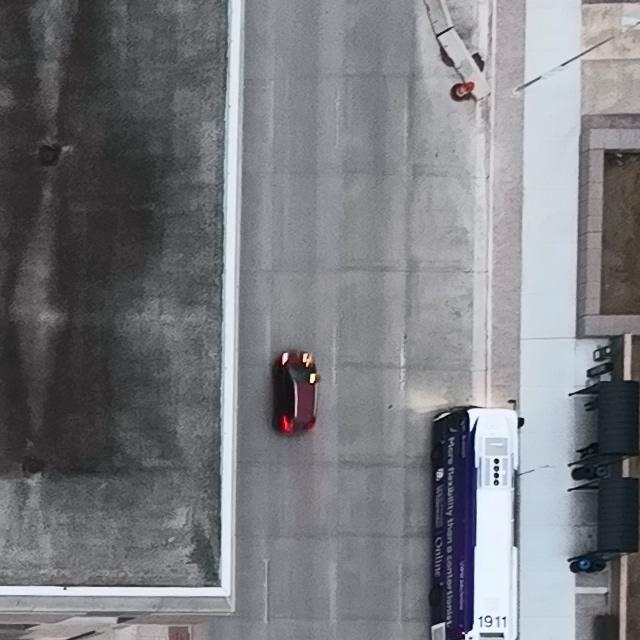car: (429, 406, 520, 640), (274, 351, 317, 436)
